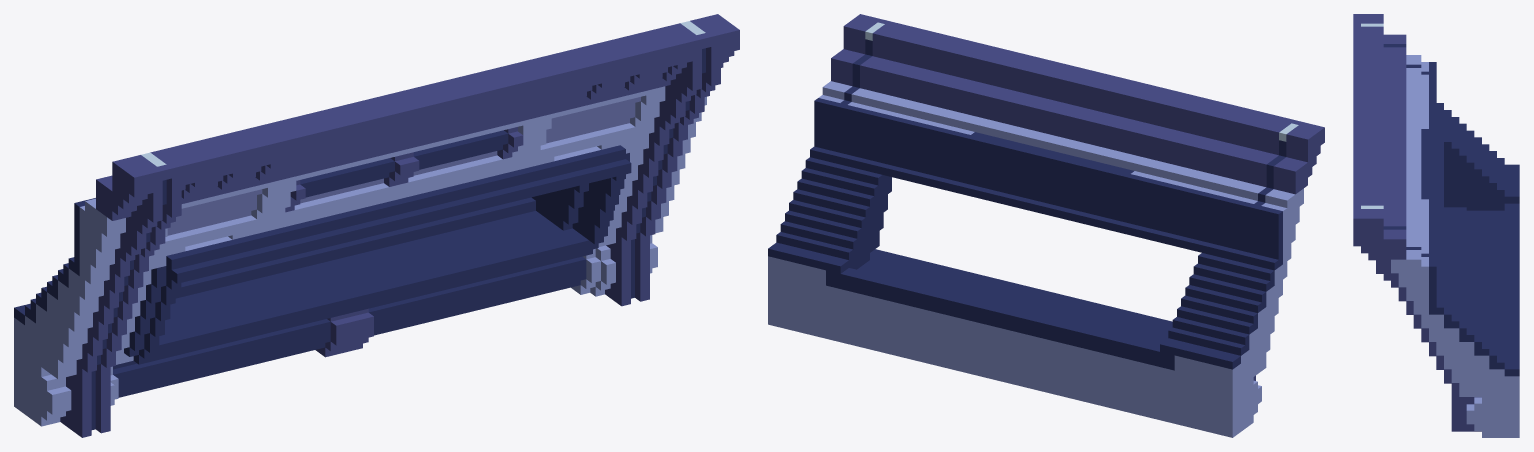
The model's file is ventana.obj.
3 views of the same model, side by side, from view 1: azimuth 30°, elevation 25°; view 2: azimuth 150°, elevation 25°; view 3: azimuth 270°, elevation 25° (orthographic). The views are drawn at different scales.
Bounding box in the file's own units: 6.4 × 3.2 × 2.2.
Materials: 1 (1 with a texture image).
